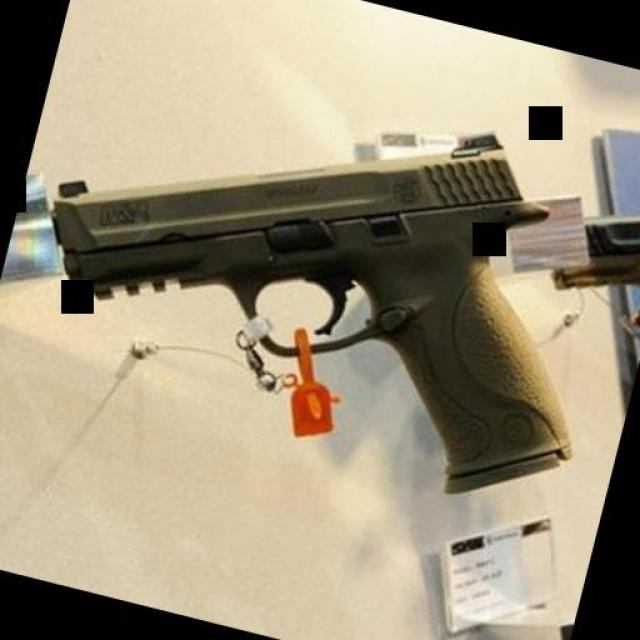gun: (17, 31, 640, 503)
